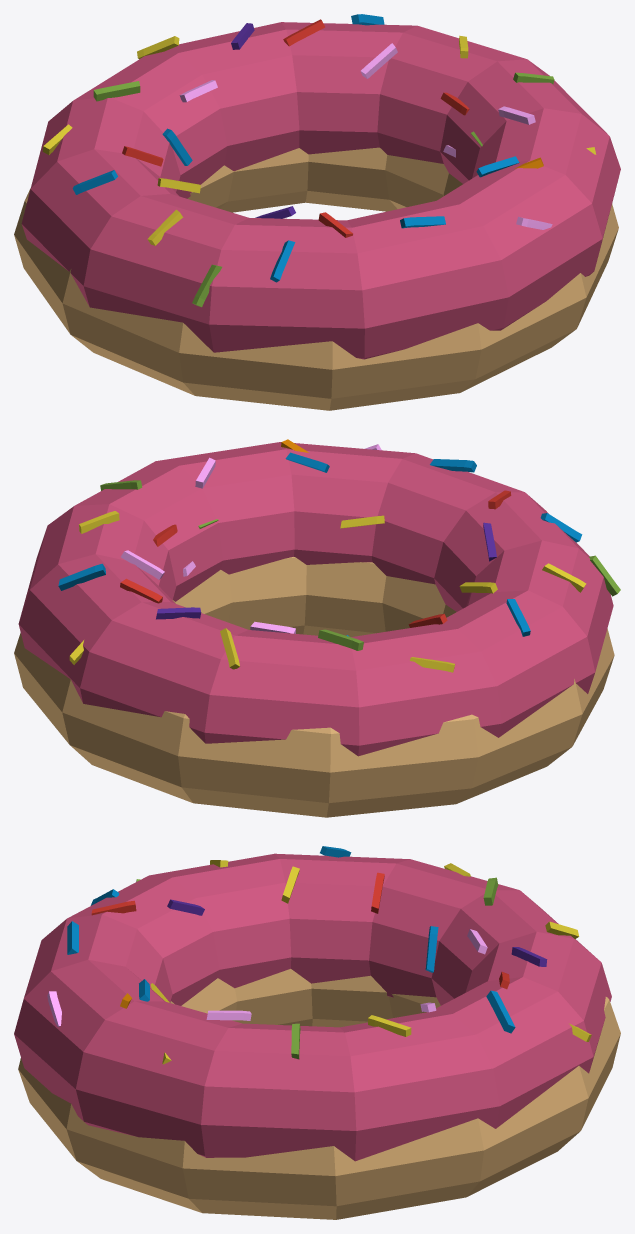
3 renders of one model, top to bottom at view 1: azimuth 30°, elevation 25°; view 2: azimuth 150°, elevation 25°; view 3: azimuth 270°, elevation 25°, orthographic.
Parts seen in each view (by area): view 1: node_MeshObject1997600768-PolyPaper21, node_MeshObject-1725287424-PolyGem25; view 2: node_MeshObject1997600768-PolyPaper21, node_MeshObject-1725287424-PolyGem25; view 3: node_MeshObject1997600768-PolyPaper21, node_MeshObject-1725287424-PolyGem25.
Boxes of the visible parts, box(x1,y1,x2,y2) form: node_MeshObject1997600768-PolyPaper21: box(14, 14, 620, 410); node_MeshObject-1725287424-PolyGem25: box(179, 43, 552, 229); node_MeshObject1997600768-PolyPaper21: box(14, 439, 620, 817); node_MeshObject-1725287424-PolyGem25: box(121, 444, 381, 633); node_MeshObject1997600768-PolyPaper21: box(14, 846, 620, 1219); node_MeshObject-1725287424-PolyGem25: box(47, 929, 487, 1026).
Bounding box in the file's own units: 0.4294 × 0.1566 × 0.432.
